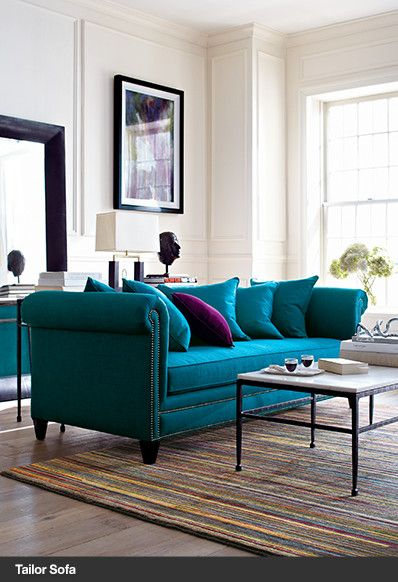chairs: (21, 271, 371, 459)
